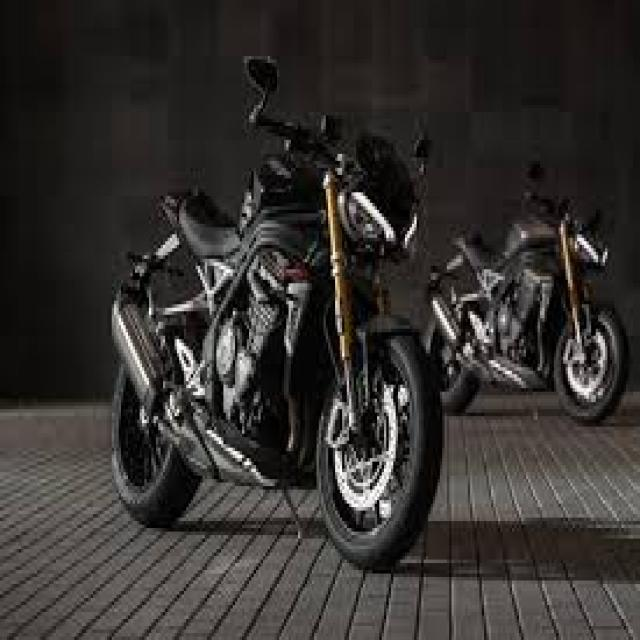bike: (102, 52, 446, 580), (423, 152, 625, 423)
